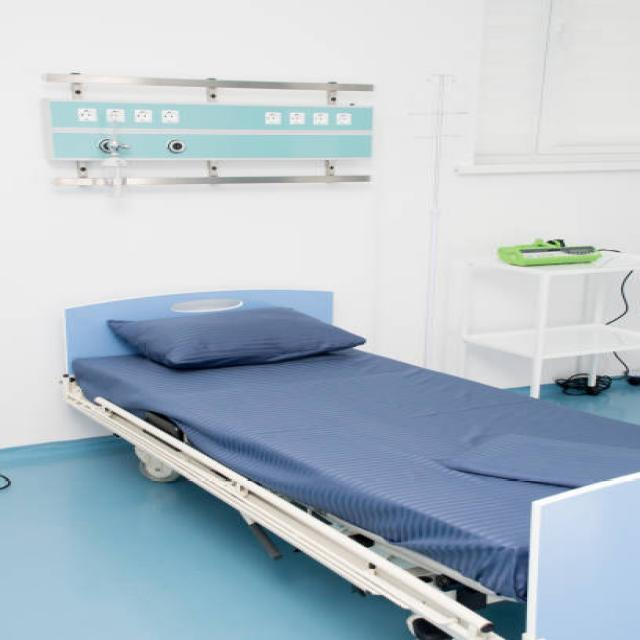bed: (59, 288, 638, 640)
tools_table: (457, 227, 640, 406)
